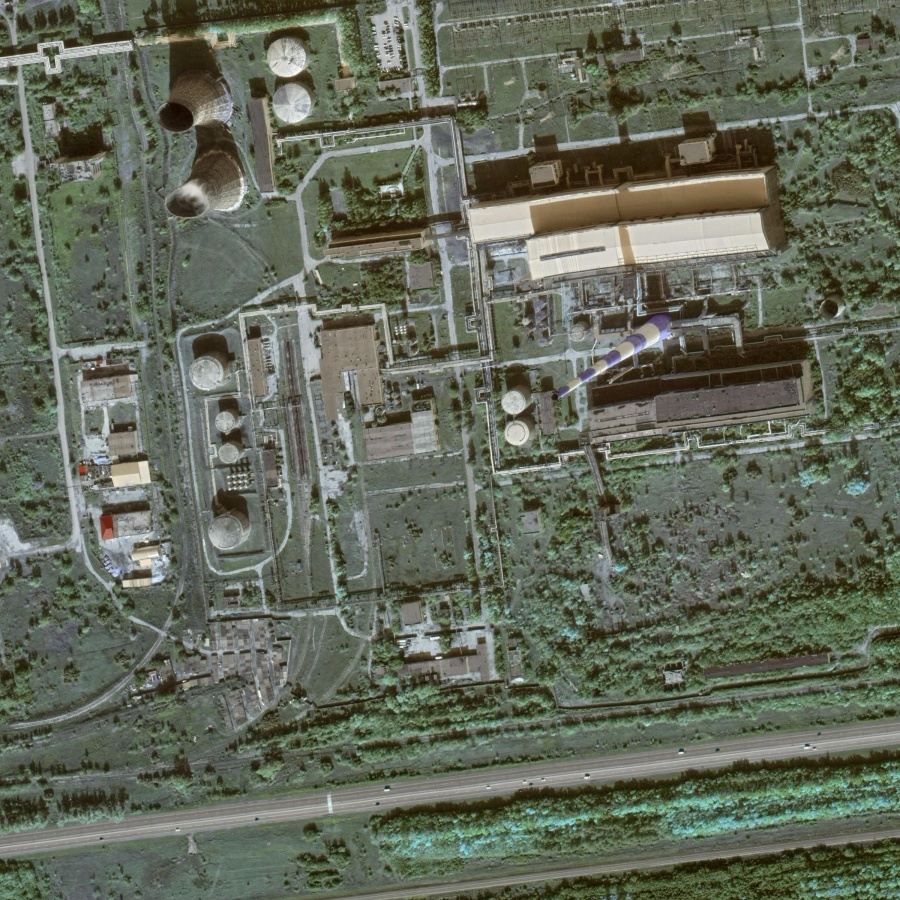PowerPlant: (150, 15, 804, 606)
